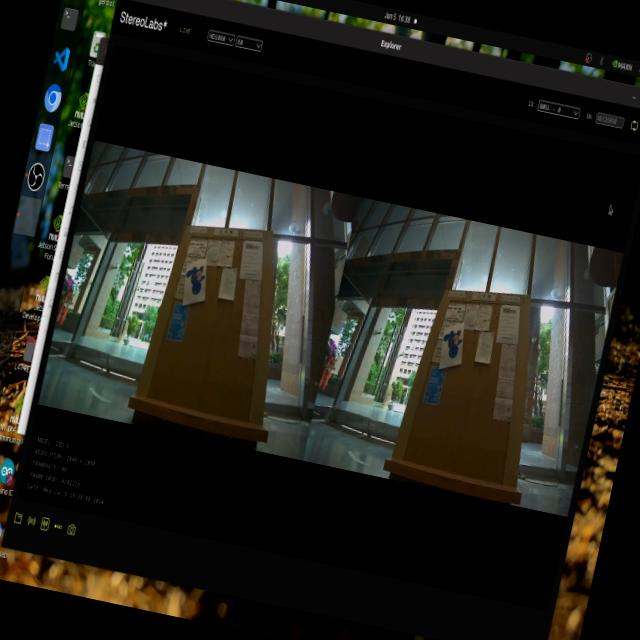blue: (180, 258, 214, 300), (437, 320, 468, 365)
